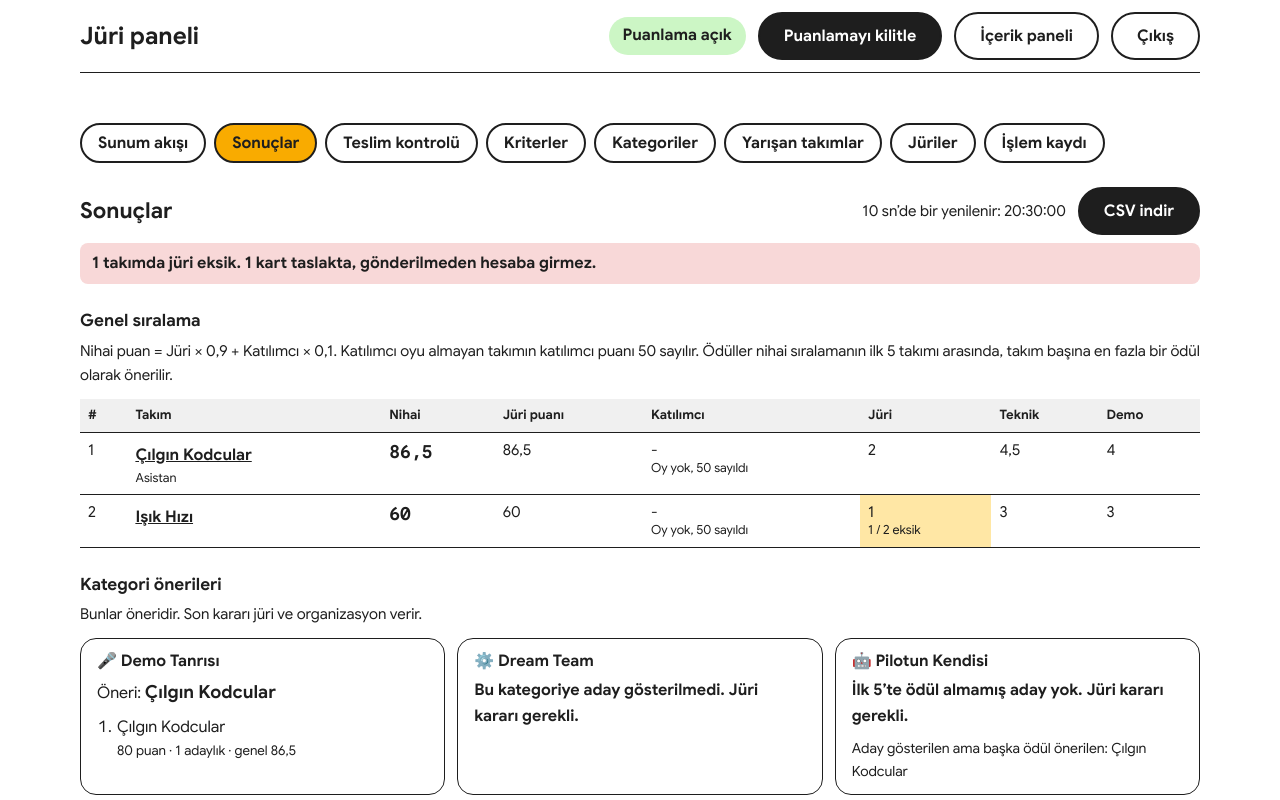
Test: jüriler › ORGANIZER link oluşturamaz ve yenileyemez
expect the button "Puanlamayı kilitle" is shown: met, box [758,12,942,60]
Click the button "Jüriler" at [933, 143], box [890,123,976,163]
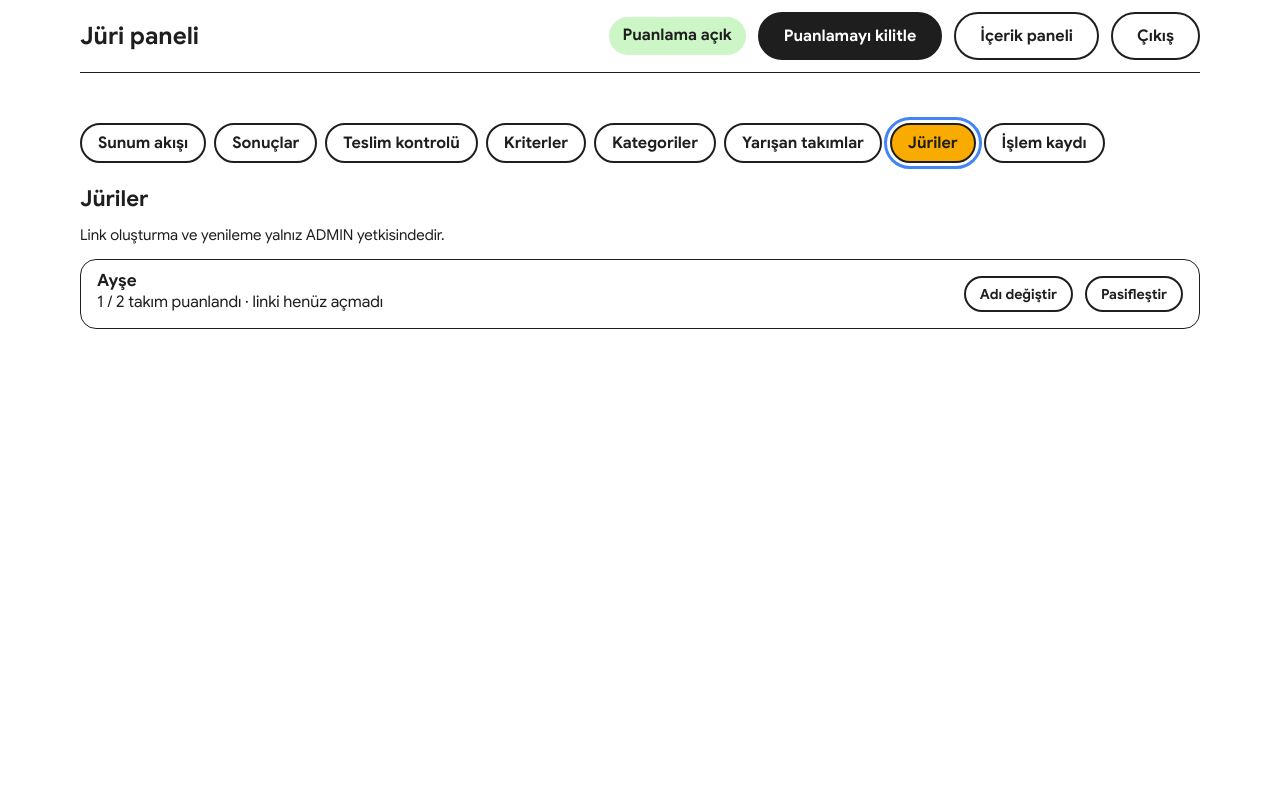
expect the button with aria-label "Ayşe adını değiştir" is shown: met, box [964,276,1073,312]
expect the text "Link oluşturma ve yenileme yalnız ADMIN yetkisindedir." is shown: met, box [80,226,445,244]
